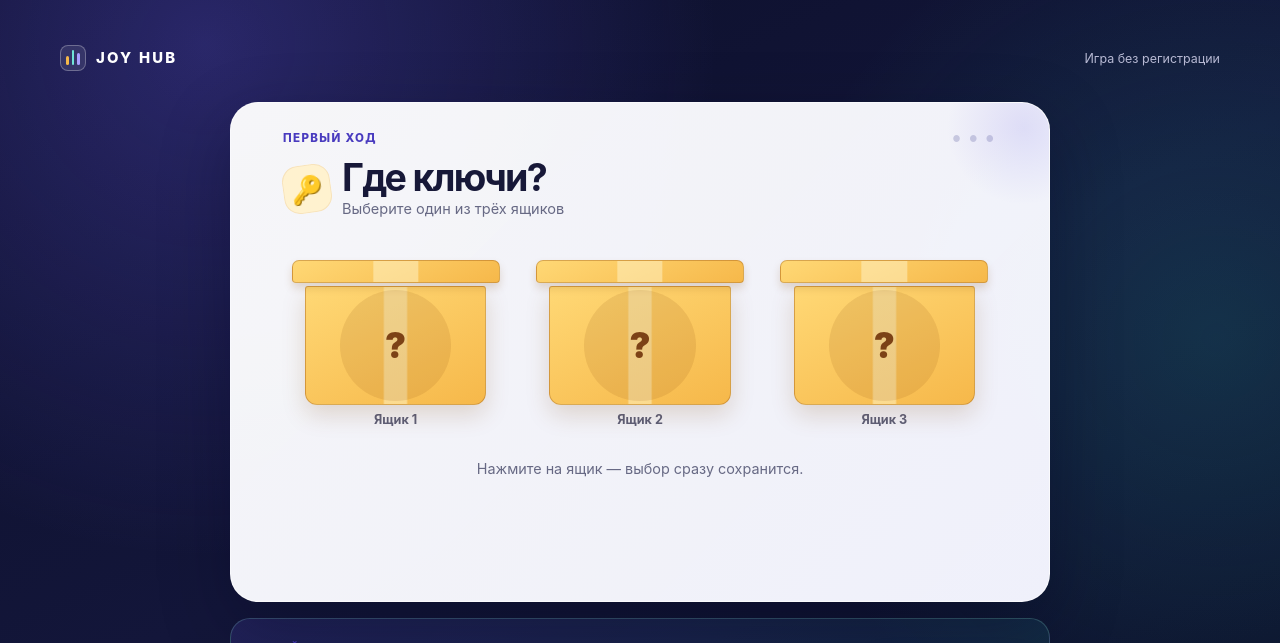
Test case: Monty Hall application › hides both strategy buttons when decision recovery is unavailable
The image size is (1280, 643).
Click the button named "Выбрать ящик 3": (884, 326) [770, 242, 999, 409]
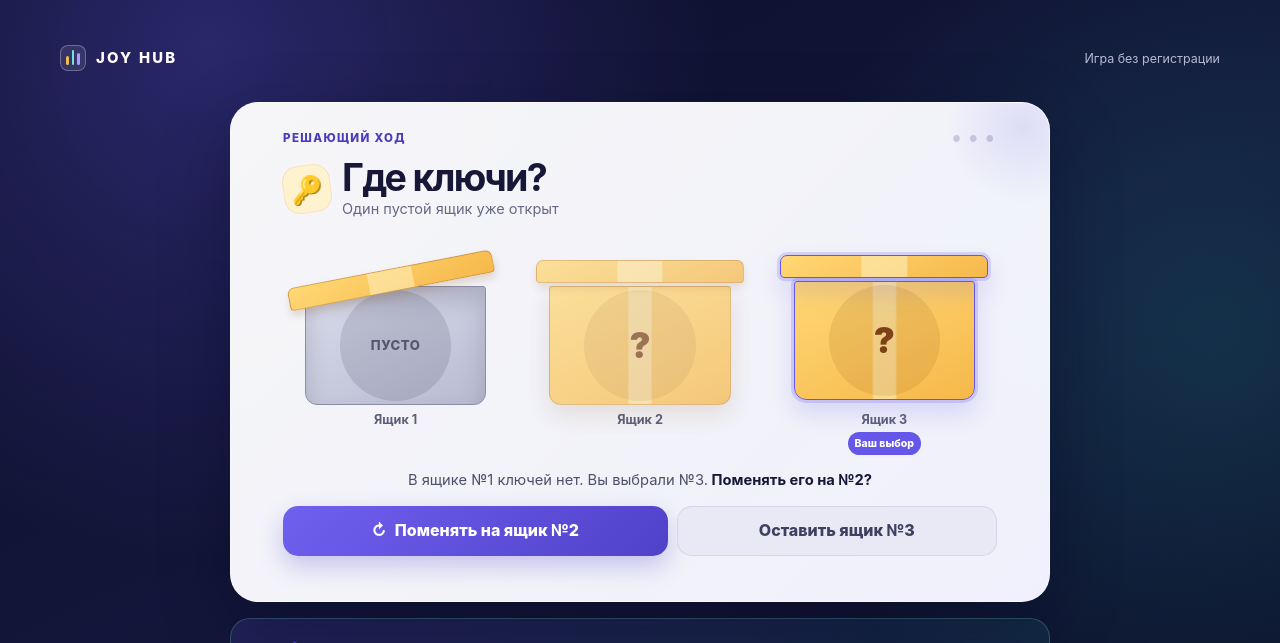
Click the button "↻ Поменять на ящик №2": (475, 531) [283, 506, 668, 556]
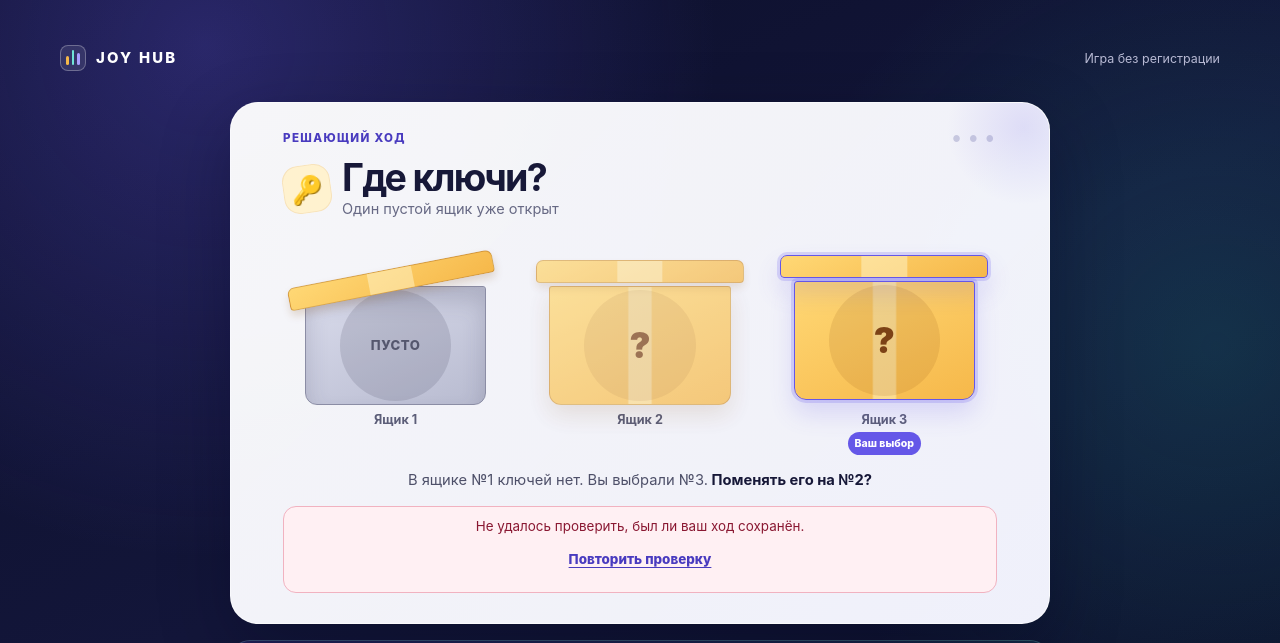
Expected: the text "Не удалось проверить, был ли ваш ход сохранён." is shown, [476, 518, 804, 534]
Expected: the button "Повторить проверку" is enabled, [560, 537, 720, 581]
Expected: the button "Поменять на ящик №2" is gone
